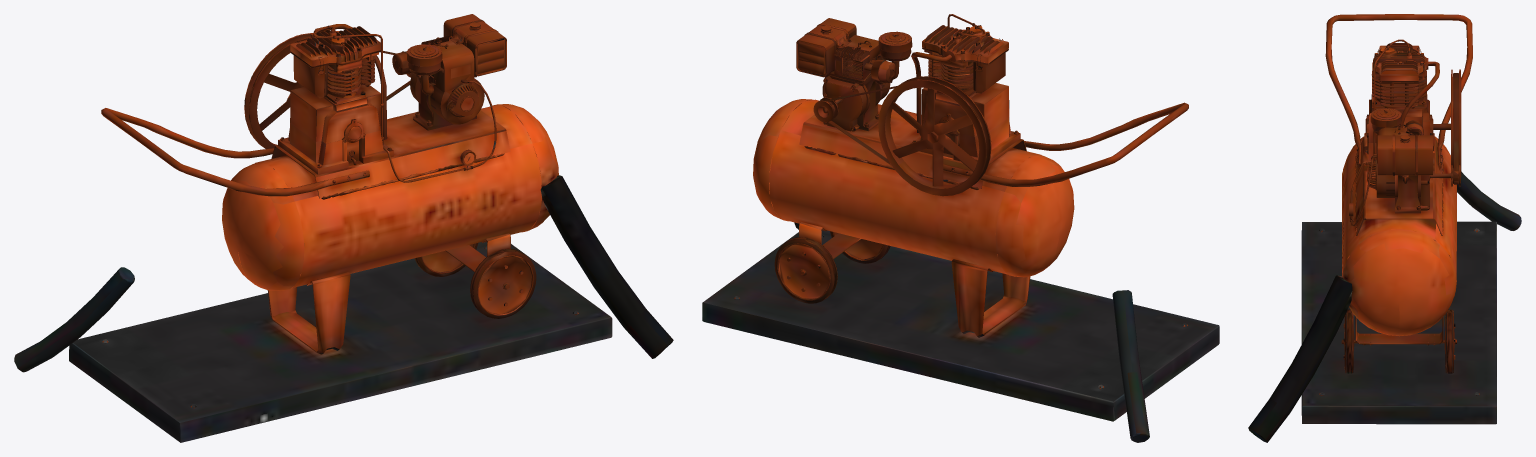
File: pump_unit.glb
3 renders of one model, left to right at view 1: azimuth 30°, elevation 25°; view 2: azimuth 150°, elevation 25°; view 3: azimuth 270°, elevation 25°, orthographic. The views are drawn at different scales.
Parts seen in each view (by area): view 1: pump_unit; view 2: pump_unit; view 3: pump_unit.
Boxes of the visible parts, bbox=[...] form: pump_unit: bbox=[14, 14, 673, 442]; pump_unit: bbox=[702, 14, 1219, 442]; pump_unit: bbox=[1248, 14, 1521, 442].
Bounding box in the file's own units: 2.02 × 1.24 × 1.06.
Materials: 1 (1 with a texture image).
